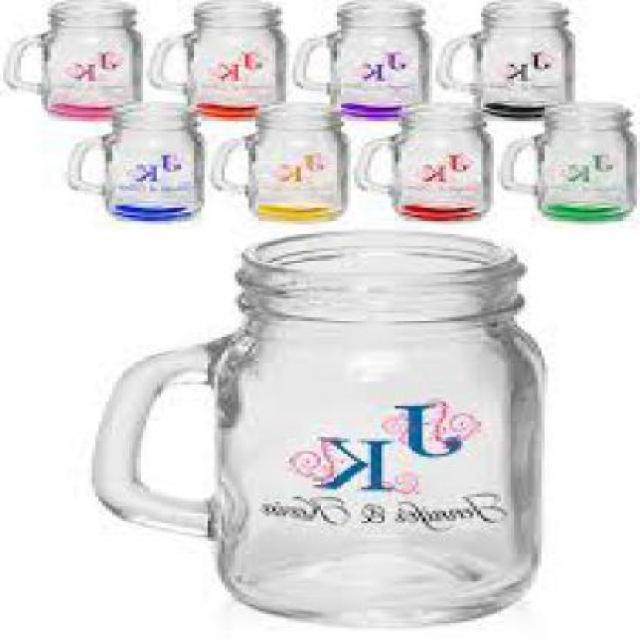GLASS: (95, 232, 551, 620), (71, 100, 204, 217), (215, 100, 350, 214), (300, 0, 435, 114), (361, 102, 497, 215), (443, 5, 579, 116), (11, 0, 143, 114), (504, 103, 636, 217), (153, 5, 285, 116)
